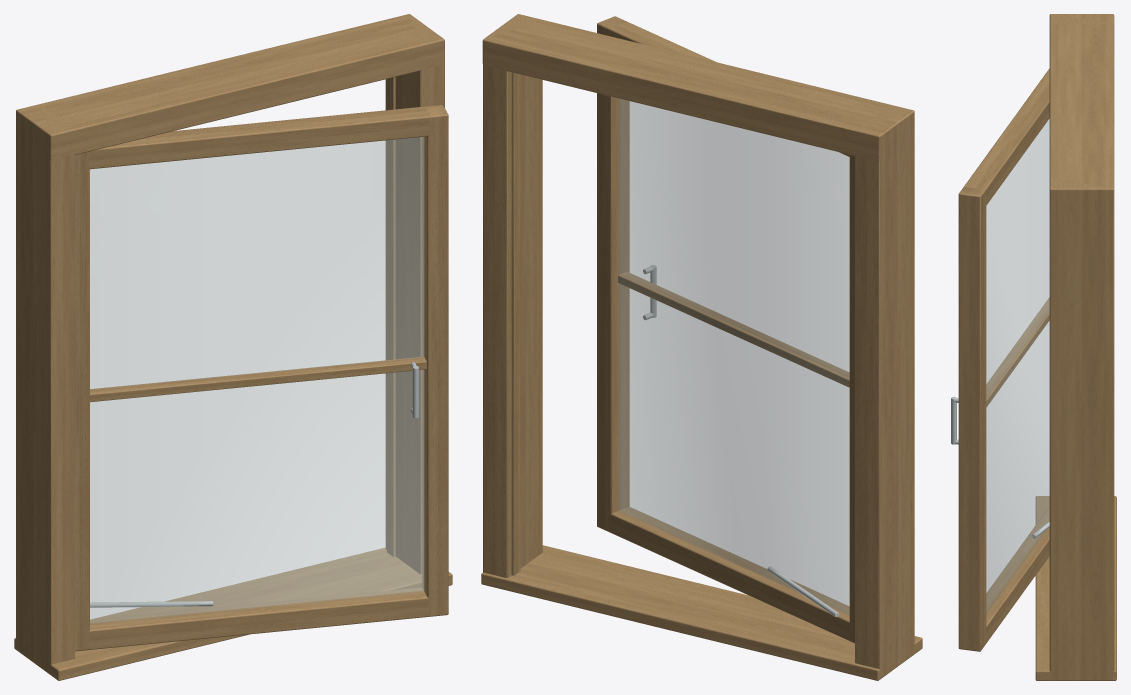
Rendered from casement-window.glb.
The picture shows the model from 3 angles, left to right: view 1: azimuth 30°, elevation 25°; view 2: azimuth 150°, elevation 25°; view 3: azimuth 270°, elevation 25°; orthographic projection. The views are drawn at different scales.
Parts seen in each view (by area): view 1: Sash | glass pane, Frame | jamb, Frame | header, Frame | jamb.001, Sash | stile.001, Sash | crossrail, Frame | sill, Sash | crossrail.001, Sash | stile, Sash | glazing crossbar, Frame | door stop.001, Casement | opening stay; view 2: Sash | glass pane, Frame | jamb, Frame | jamb.001, Frame | header, Frame | sill, Sash | stile.001, Sash | crossrail, Frame | door stop.001, Sash | glazing crossbar, Sash | stile, Sash | crossrail.001; view 3: Frame | jamb.001, Sash | glass pane, Sash | stile.001, Frame | header, Sash | crossrail.001, Sash | crossrail, Frame | sill, Sash | glazing crossbar, Frame | jamb, Casement | latch | grip.
Boxes of the visible parts, box(x1,y1,x2,y2) form: Sash | glass pane: box(90, 136, 424, 623); Frame | jamb: box(16, 104, 74, 674); Frame | header: box(16, 14, 444, 159); Frame | jamb.001: box(385, 14, 444, 573); Sash | stile.001: box(422, 105, 448, 616); Sash | crossrail: box(87, 587, 429, 650); Frame | sill: box(14, 548, 452, 680); Sash | crossrail.001: box(89, 106, 430, 169); Sash | stile: box(75, 152, 89, 651); Sash | glazing crossbar: box(90, 356, 426, 402); Frame | door stop.001: box(387, 77, 395, 556); Casement | opening stay: box(90, 601, 213, 607); Sash | glass pane: box(618, 98, 849, 615); Frame | jamb: box(855, 105, 914, 678); Frame | jamb.001: box(483, 14, 542, 577); Frame | header: box(482, 14, 914, 160); Frame | sill: box(481, 545, 922, 680); Sash | stile.001: box(597, 16, 629, 532); Sash | crossrail: box(610, 506, 850, 641); Frame | door stop.001: box(511, 72, 520, 575); Sash | glazing crossbar: box(618, 272, 849, 387); Sash | stile: box(849, 155, 854, 643); Sash | crossrail.001: box(609, 21, 849, 156); Frame | jamb.001: box(1049, 178, 1114, 680); Sash | glass pane: box(986, 119, 1049, 613); Sash | stile.001: box(958, 187, 986, 651); Frame | header: box(1049, 14, 1114, 211); Sash | crossrail.001: box(964, 68, 1049, 205); Sash | crossrail: box(986, 506, 1049, 643); Frame | sill: box(1035, 496, 1116, 680); Sash | glazing crossbar: box(986, 297, 1049, 407); Frame | jamb: box(1050, 14, 1113, 24); Casement | latch | grip: box(951, 397, 956, 444).
Bounding box in the file's own units: 0.8681 × 1.14 × 0.3464.
4 materials, 4 textured.
